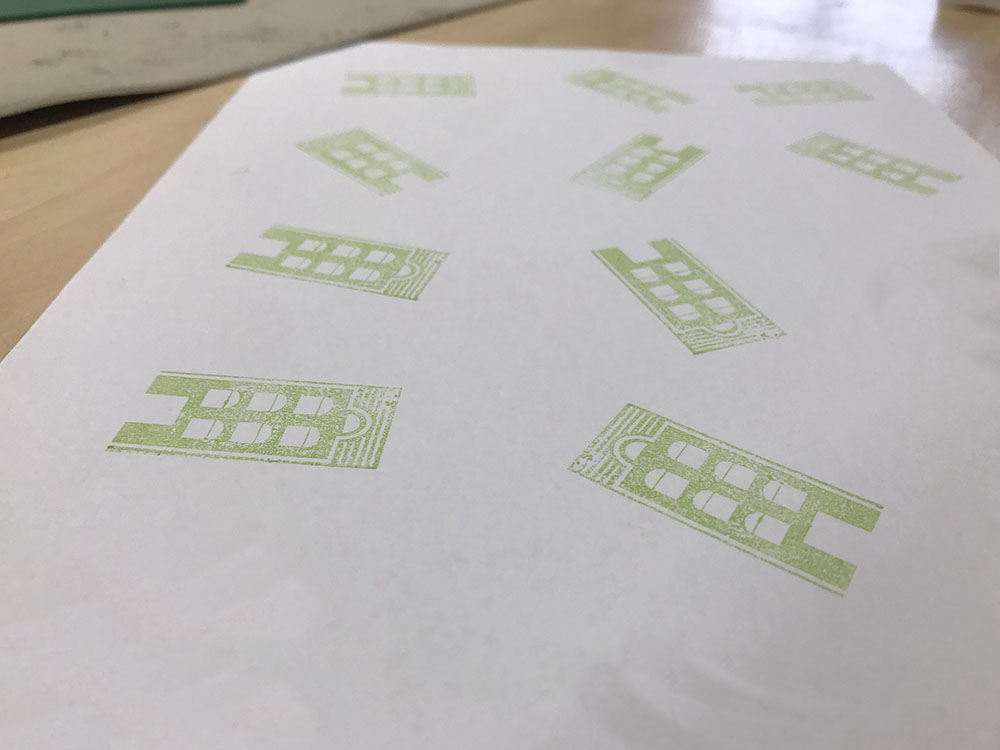build: (534, 376, 899, 614), (91, 344, 426, 497), (574, 223, 812, 371), (212, 212, 459, 321), (771, 119, 974, 208), (277, 110, 466, 205), (554, 120, 721, 220), (549, 51, 716, 127), (727, 64, 893, 130), (319, 62, 496, 110)
